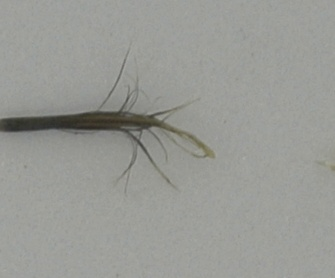เมล้ดปลายพู่กัน: (1, 41, 216, 202)
